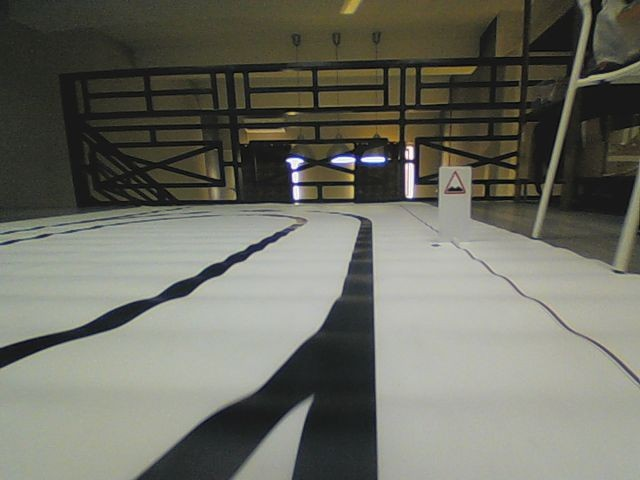Nerov: (443, 169, 466, 196)
